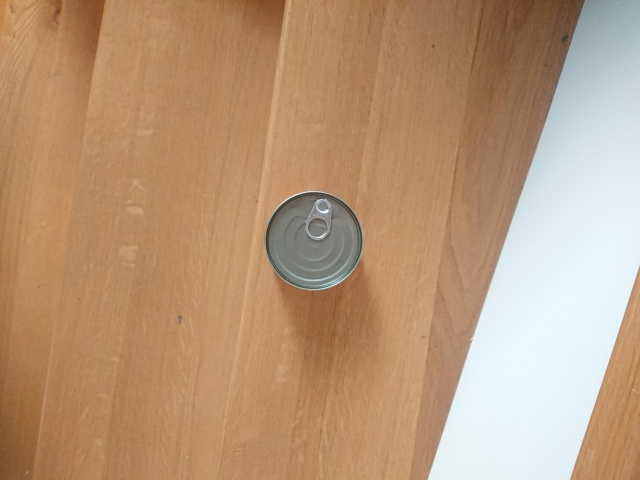Giana Tuna Salad Mexico 185g: (263, 189, 366, 294)
